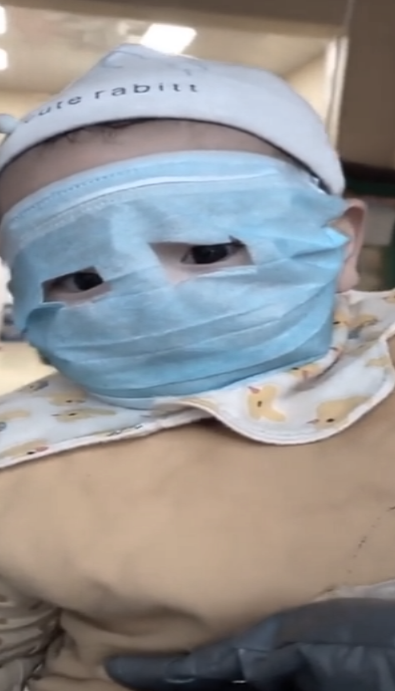mask_weared_incorrect: (1, 47, 371, 402)
